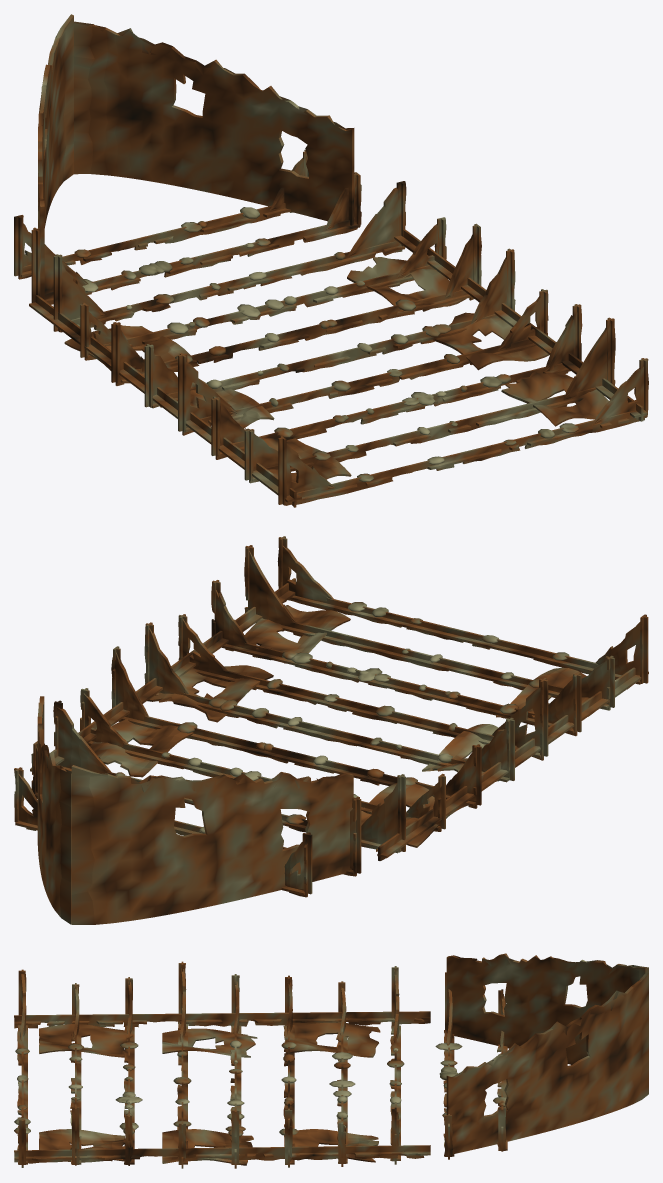
The model's file is wreck-bow.glb.
The picture shows the model from 3 angles, top to bottom: view 1: azimuth 30°, elevation 25°; view 2: azimuth 150°, elevation 25°; view 3: azimuth 270°, elevation 25°; orthographic projection. The views are drawn at different scales.
Visible parts, largest first — view 1: wreck-bow; view 2: wreck-bow; view 3: wreck-bow.
Boxes of the visible parts, left/top/right/bottom form: wreck-bow: left=14, top=14, right=648, bottom=507; wreck-bow: left=14, top=536, right=648, bottom=924; wreck-bow: left=14, top=953, right=648, bottom=1168.
Bounding box in the file's own units: 4.09 × 1.73 × 7.62.
